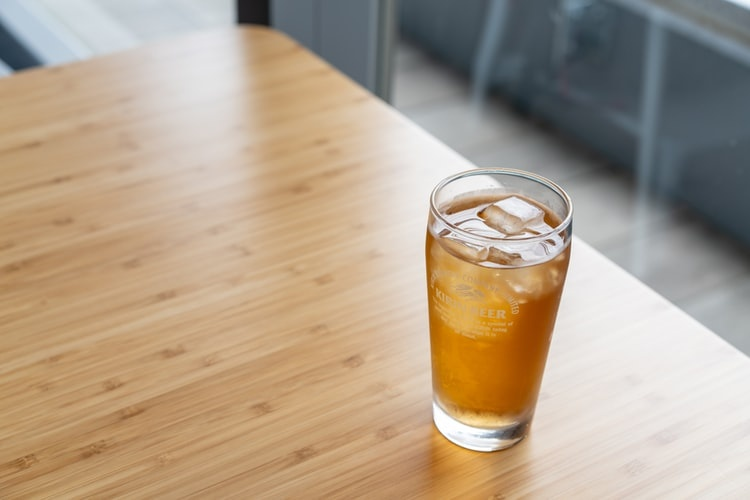whiskey: (419, 170, 573, 446)
